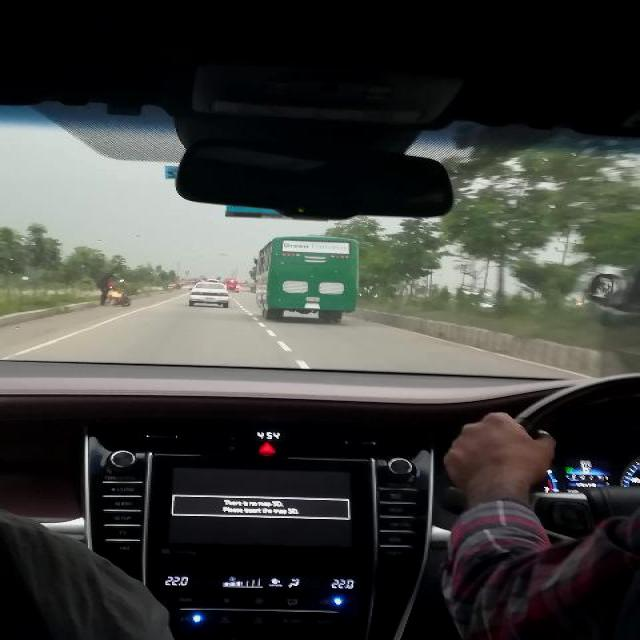white: (190, 280, 230, 307)
